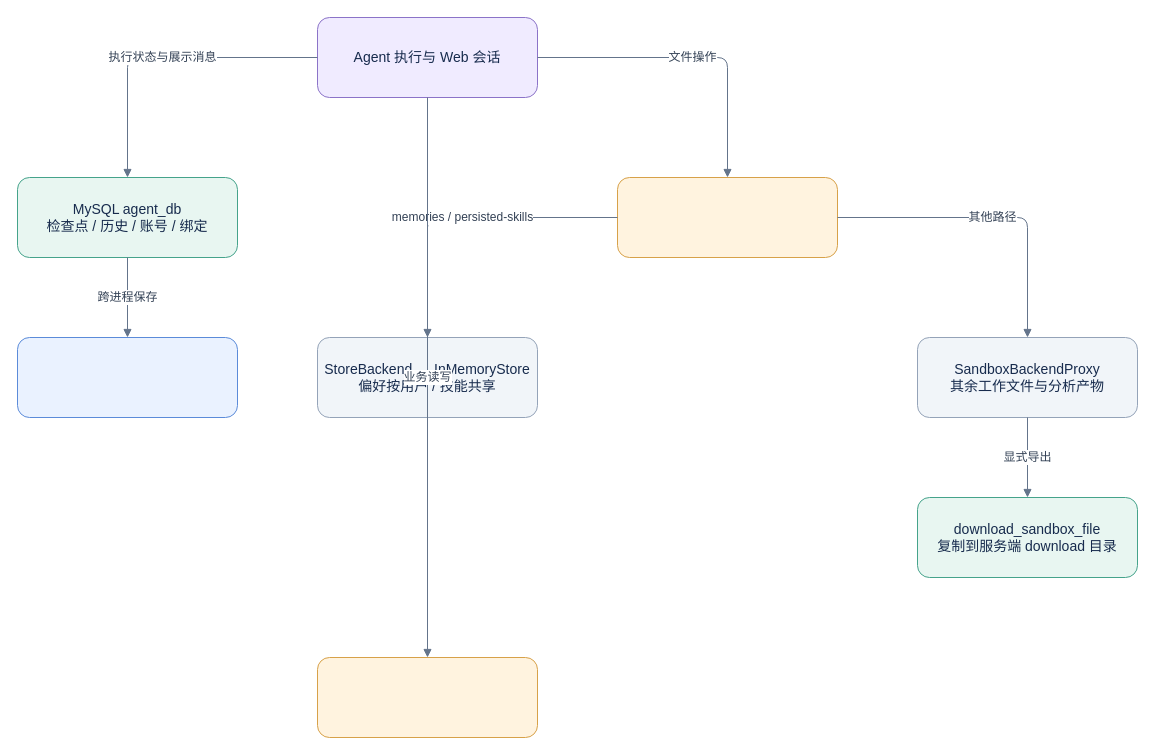
This 1155x755 diagram has some shape labels left out. The shapes that lost their labels are listed below. From the top down, each one's centre as x and y in pixels, then its label:
(727,217): CompositeBackend 按路径选择后端
(127,377): 恢复任务与还原界面 两套数据分别使用
(427,697): ERP MCP → Java ERP 业务库保存订单等正式数据
